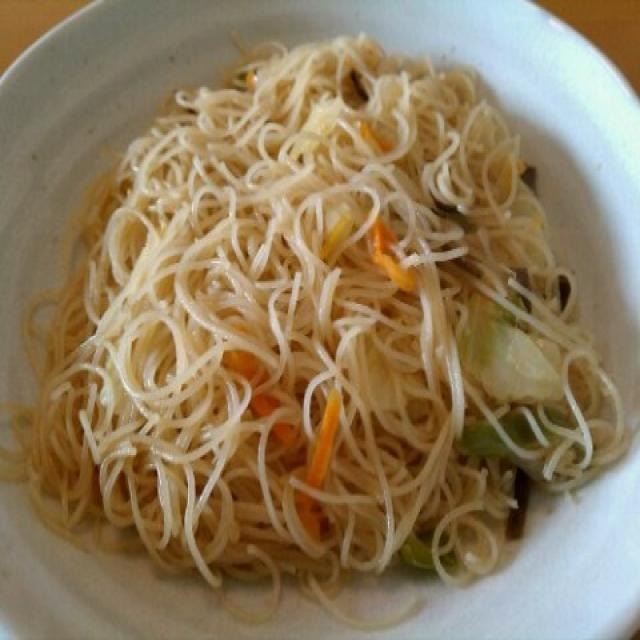熟制海鲜: (103, 0, 570, 449)
